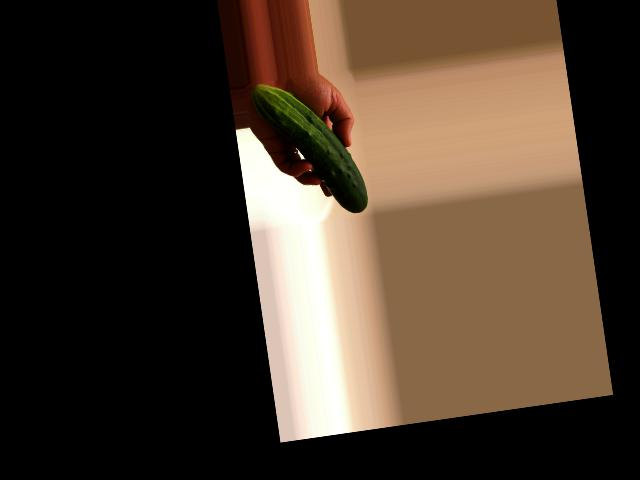cucumber: (249, 72, 368, 225)
